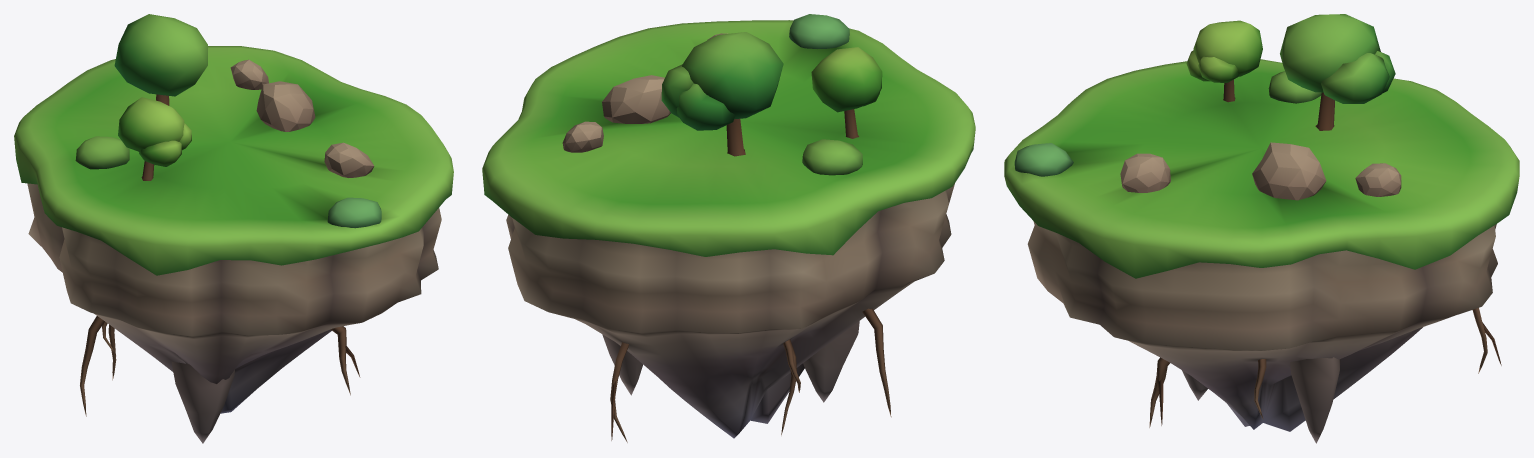
The model's file is island_b.glb.
3 renders of one model, left to right at view 1: azimuth 30°, elevation 25°; view 2: azimuth 150°, elevation 25°; view 3: azimuth 270°, elevation 25°, orthographic. The views are drawn at different scales.
Visible parts, largest first — view 1: IslandB; view 2: IslandB; view 3: IslandB.
Boxes of the visible parts, <box> form: IslandB: <box>14,14,453,443</box>; IslandB: <box>482,14,975,442</box>; IslandB: <box>1004,14,1519,443</box>.
Size of the model in its own units: 17.12 by 17.01 by 19.44.
